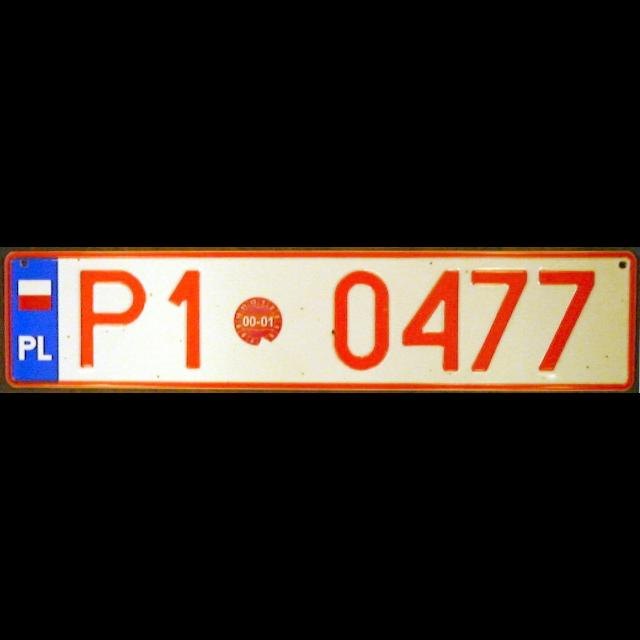pl_license_plate: (5, 252, 637, 392)
